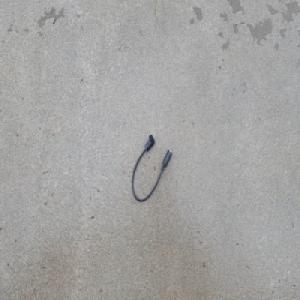Wire: (131, 132, 172, 203)
